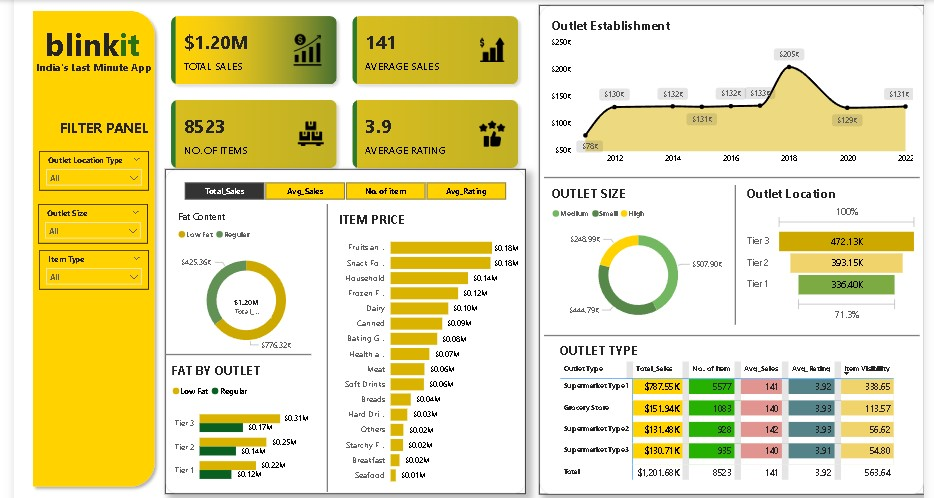

This screenshot's page, from the dashboard's own definition file:
{"tool":"powerbi","page":{"name":"Page 1","canvas":[1400,800],"ordinal":0},"visuals":[{"type":"shape","box":[19.3,24.1,205.6,750.2],"z":0},{"type":"textbox","box":[35.3,46.6,171.9,77.1],"z":1000},{"type":"textbox","box":[25.7,104.4,192.8,38.6],"z":2000},{"type":"cardVisual","fields":{"Data":["BlinkIT Grocery Data.Total_Sales","BlinkIT Grocery Data.Avg_Sales","BlinkIT Grocery Data.No. of item","BlinkIT Grocery Data.Avg_Rating"]},"box":[224.9,24.1,568.7,269.9],"z":3000},{"type":"shape","box":[232.3,277.4,554.8,500],"z":4000},{"type":"donutChart","title":" Fat Content","fields":{"Y":["BlinkIT Grocery Data.Total_Sales"],"Category":["BlinkIT Grocery Data.Item Fat Content"]},"box":[248.4,341.9,219.4,230.6],"z":5000},{"type":"slicer","fields":{"Values":["METRICS.METRICS"]},"box":[237.1,290.3,543.5,40.3],"z":6000},{"type":"cardVisual","fields":{"Data":["BlinkIT Grocery Data.Total_Sales"]},"box":[319.7,457.8,75.5,48.2],"z":7000},{"type":"clusteredBarChart","title":"FAT  BY OUTLET","fields":{"Y":["BlinkIT Grocery Data.Total_Sales"],"Category":["BlinkIT Grocery Data.Outlet Location Type"],"Series":["BlinkIT Grocery Data.Item Fat Content"]},"box":[237.8,573.5,220.1,200.8],"z":8000},{"type":"shape","box":[232.9,543,224.9,38.6],"z":9000},{"type":"shape","box":[469.1,330.9,25.7,443.4],"z":10000},{"type":"barChart","title":"ITEM PRICE","fields":{"Y":["BlinkIT Grocery Data.Total_Sales"],"Category":["BlinkIT Grocery Data.Item Type"]},"box":[494.8,342.2,285.9,430.5],"z":11000},{"type":"shape","box":[808,24.1,592.8,753.4],"z":12000},{"type":"lineChart","title":" Outlet Establishment ","fields":{"Y":["BlinkIT Grocery Data.Total_Sales"],"Category":["BlinkIT Grocery Data.Outlet Establishment Year"]},"box":[822.5,43.4,565.5,234.5],"z":13000},{"type":"shape","box":[816.1,271.5,578.3,38.6],"z":14000},{"type":"donutChart","title":"OUTLET SIZE","fields":{"Y":["BlinkIT Grocery Data.Total_Sales"],"Category":["BlinkIT Grocery Data.Outlet Size"]},"box":[822.5,302,274.7,224.9],"z":15000},{"type":"shape","box":[1097.2,302,25.7,215.3],"z":16000},{"type":"funnel","title":"Outlet Location","fields":{"Category":["BlinkIT Grocery Data.Outlet Location Type"],"Y":["Sum(BlinkIT Grocery Data.Sales)"]},"box":[1122.9,302,271.5,215.3],"z":17000},{"type":"shape","box":[816.1,514.1,578.3,38.6],"z":18000},{"type":"pivotTable","title":"OUTLET TYPE","fields":{"Rows":["BlinkIT Grocery Data.Outlet Type"],"Values":["BlinkIT Grocery Data.Total_Sales","BlinkIT Grocery Data.No. of item","BlinkIT Grocery Data.Avg_Sales","BlinkIT Grocery Data.Avg_Rating","Sum(BlinkIT Grocery Data.Item Visibility)"]},"box":[835.3,543,559,218.5],"z":19000},{"type":"slicer","fields":{"Values":["BlinkIT Grocery Data.Outlet Location Type"]},"box":[38.6,249,168.7,61],"z":20000},{"type":"slicer","fields":{"Values":["BlinkIT Grocery Data.Outlet Size"]},"box":[36.9,330.9,168.7,61],"z":21000},{"type":"slicer","fields":{"Values":["BlinkIT Grocery Data.Item Type"]},"box":[38.6,401.6,168.7,61],"z":22000},{"type":"textbox","box":[57.8,192.8,160.6,40.2],"z":23000}]}

Visuals, with their boxes on the page's 1400x800 design canvas (x1, y1, x2, y2). These are canvas units, not pixel positions in the 934x498 screenshot, which may show the page scaled, cropped or inside an application window:
shape: BBox(19, 24, 225, 774)
textbox: BBox(35, 47, 207, 124)
textbox: BBox(26, 104, 218, 143)
cardVisual - BlinkIT Grocery Data.Total_Sales x BlinkIT Grocery Data.Avg_Sales: BBox(225, 24, 794, 294)
shape: BBox(232, 277, 787, 777)
" Fat Content" donutChart: BBox(248, 342, 468, 572)
slicer - METRICS.METRICS: BBox(237, 290, 781, 331)
cardVisual - BlinkIT Grocery Data.Total_Sales: BBox(320, 458, 395, 506)
"FAT  BY OUTLET" clusteredBarChart: BBox(238, 574, 458, 774)
shape: BBox(233, 543, 458, 582)
shape: BBox(469, 331, 495, 774)
"ITEM PRICE" barChart: BBox(495, 342, 781, 773)
shape: BBox(808, 24, 1401, 778)
" Outlet Establishment " lineChart: BBox(822, 43, 1388, 278)
shape: BBox(816, 272, 1394, 310)
"OUTLET SIZE" donutChart: BBox(822, 302, 1097, 527)
shape: BBox(1097, 302, 1123, 517)
"Outlet Location" funnel: BBox(1123, 302, 1394, 517)
shape: BBox(816, 514, 1394, 553)
"OUTLET TYPE" pivotTable: BBox(835, 543, 1394, 762)
slicer - BlinkIT Grocery Data.Outlet Location Type: BBox(39, 249, 207, 310)
slicer - BlinkIT Grocery Data.Outlet Size: BBox(37, 331, 206, 392)
slicer - BlinkIT Grocery Data.Item Type: BBox(39, 402, 207, 463)
textbox: BBox(58, 193, 218, 233)
